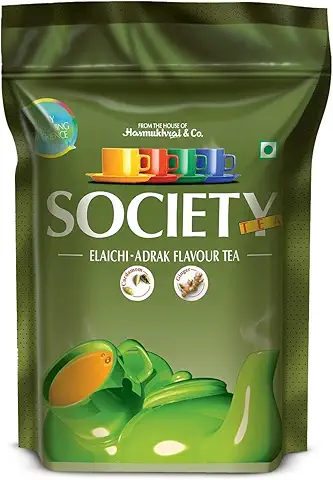Tea: (3, 2, 333, 480)
